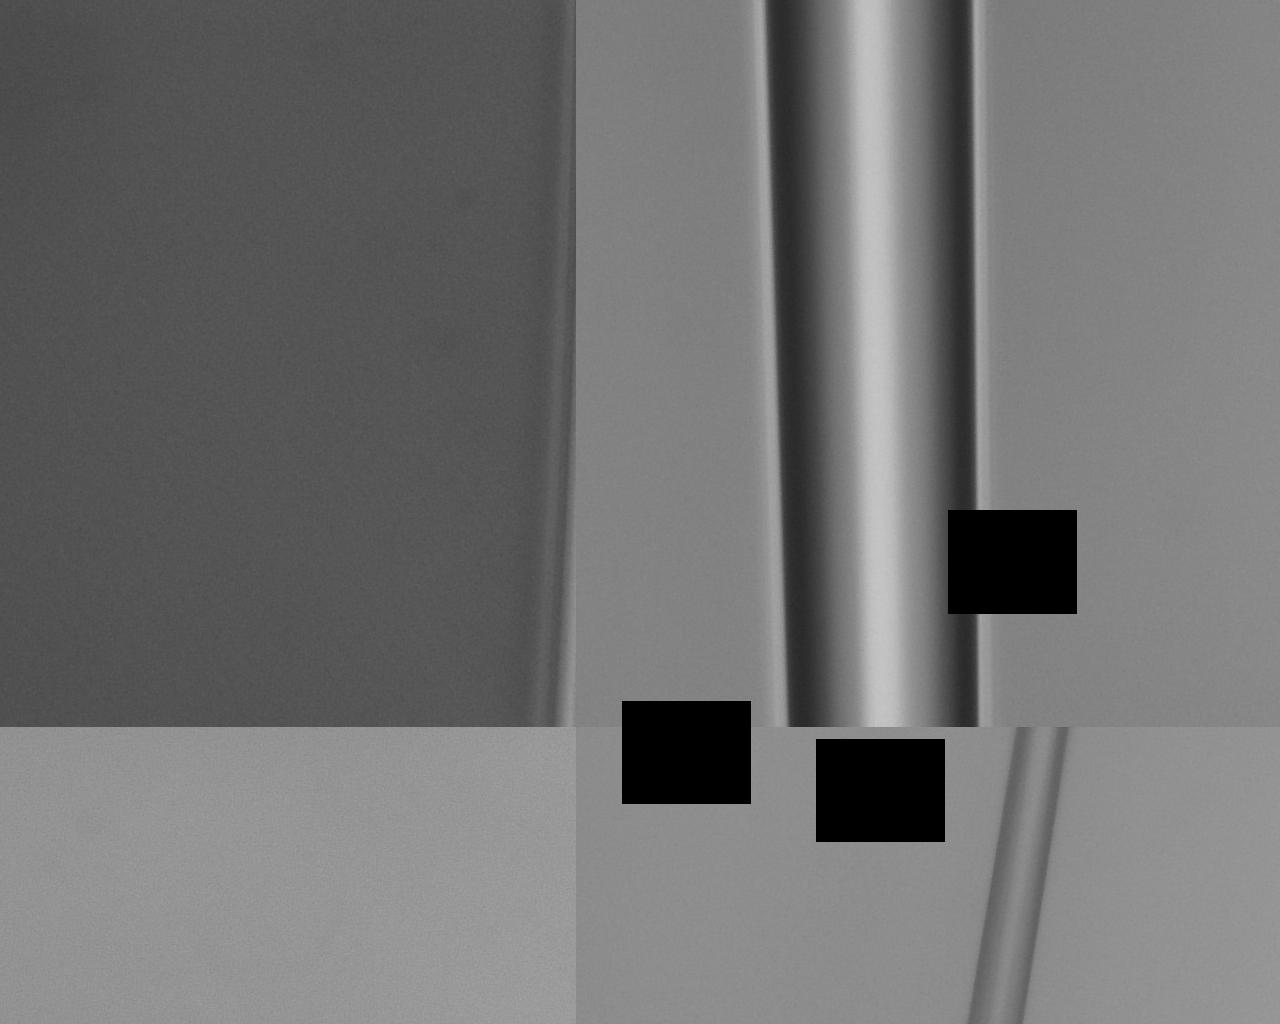fiber: (1067, 0, 1147, 665)
